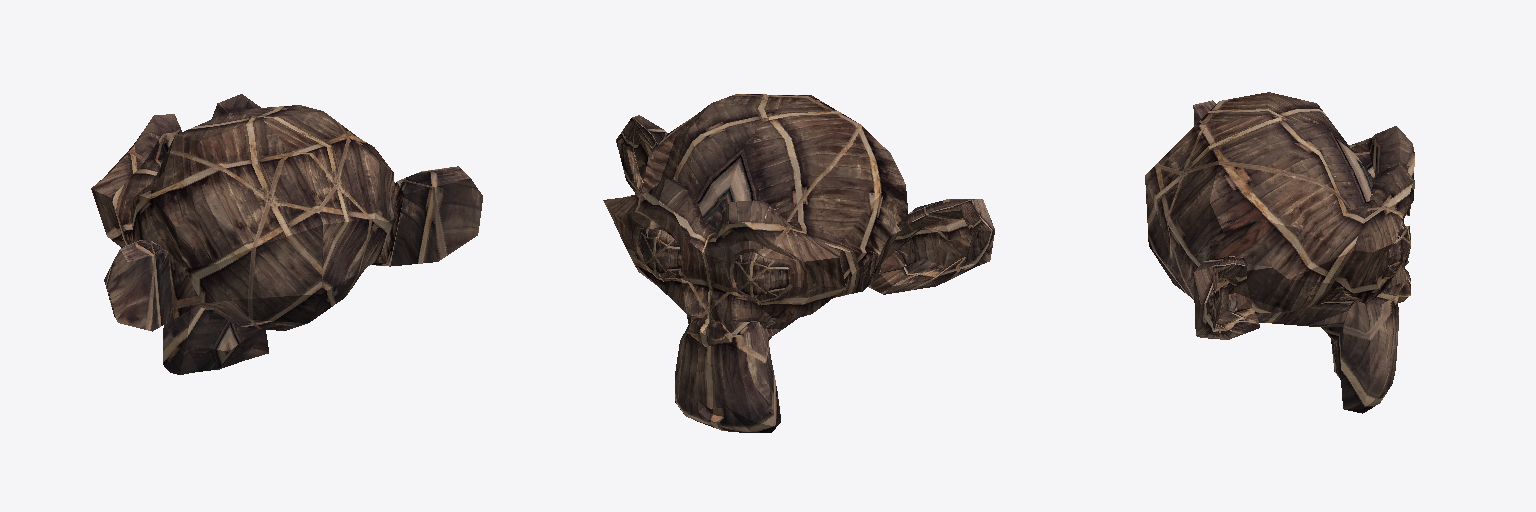
The picture shows the model from 3 angles: view 1: azimuth 30°, elevation 25°; view 2: azimuth 150°, elevation 25°; view 3: azimuth 270°, elevation 25°; orthographic projection.
Visible parts, largest first — view 1: Suzanne; view 2: Suzanne; view 3: Suzanne.
Part boxes in pixels (left/top/right/bottom): Suzanne: left=91, top=94, right=482, bottom=374; Suzanne: left=603, top=94, right=994, bottom=432; Suzanne: left=1145, top=92, right=1414, bottom=413.
Bounding box in the file's own units: 2.73 × 1.97 × 1.7.
1 materials, 1 textured.